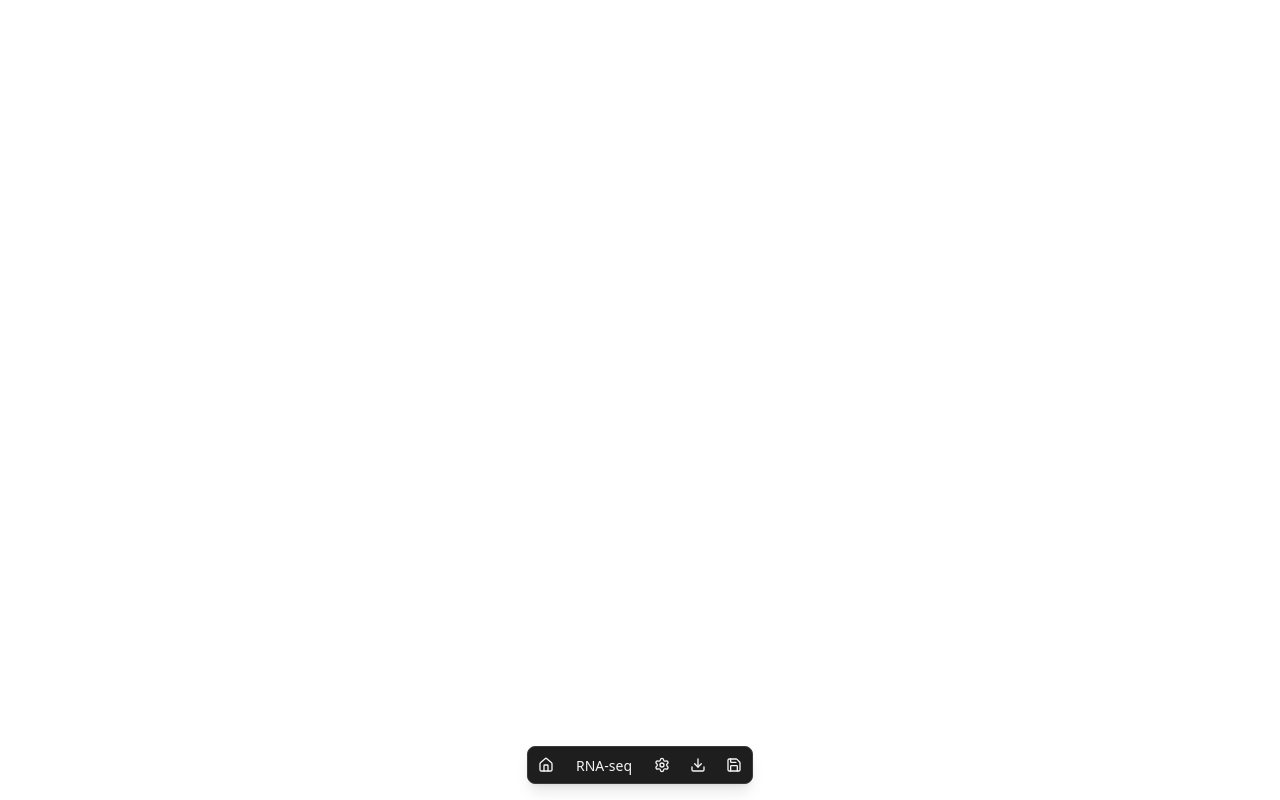
BottomBar › settings dialog › falls back to defaults in the summary
What coordinates should you click on to do the following:
click the button named "Execution Settings"
I would click on:
 (662, 765)
Its box is [648,751,676,779].
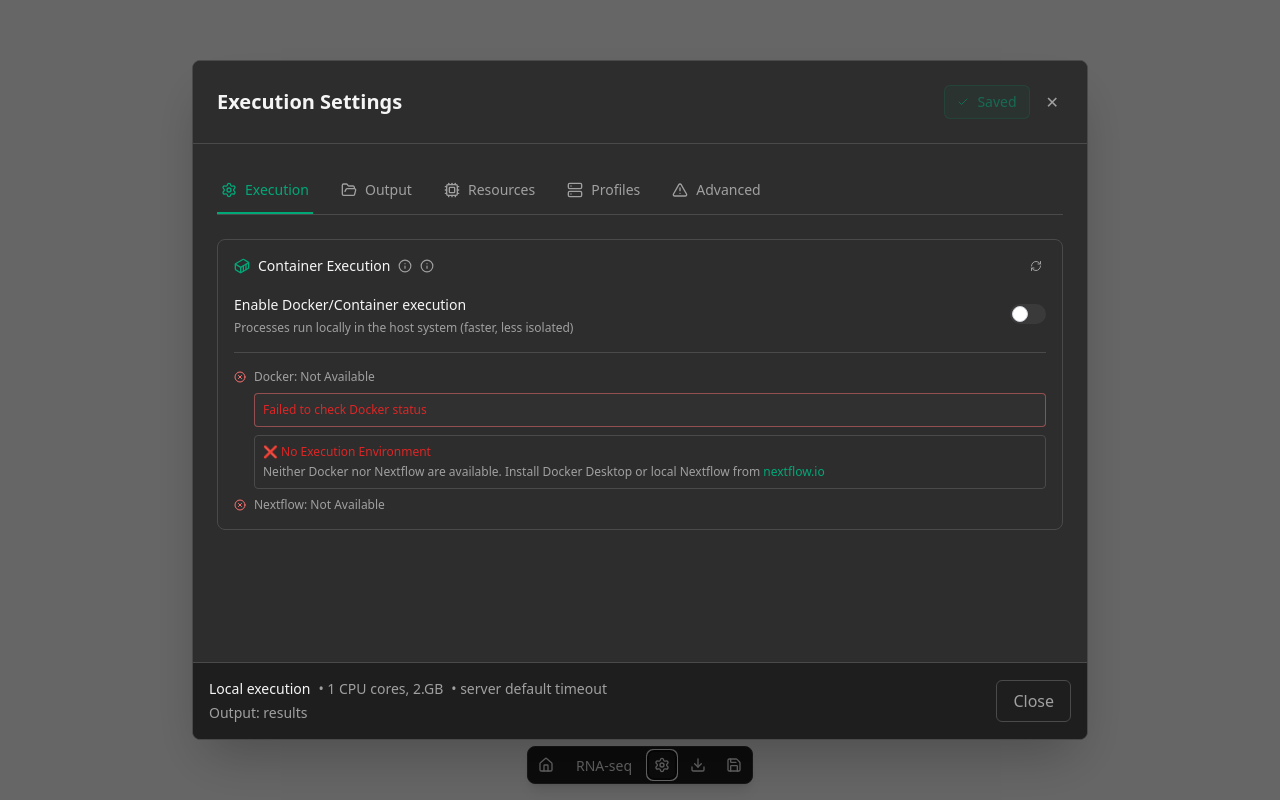
expect the text "Local execution" is shown: met, box [209,679,310,698]
expect the text "• 1 CPU cores, 2.GB" is shown: met, box [318,679,443,698]
expect the text "• server default timeout" is shown: met, box [451,679,607,698]
